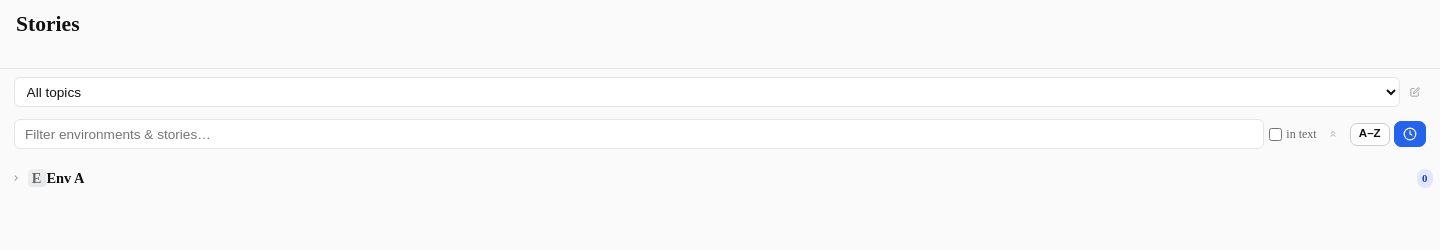
SideBarComponent › rendering › shows "no chats" for an expanded project without chats
Click the button with class "expand-btn" at (16, 178), box [5,167,27,189]
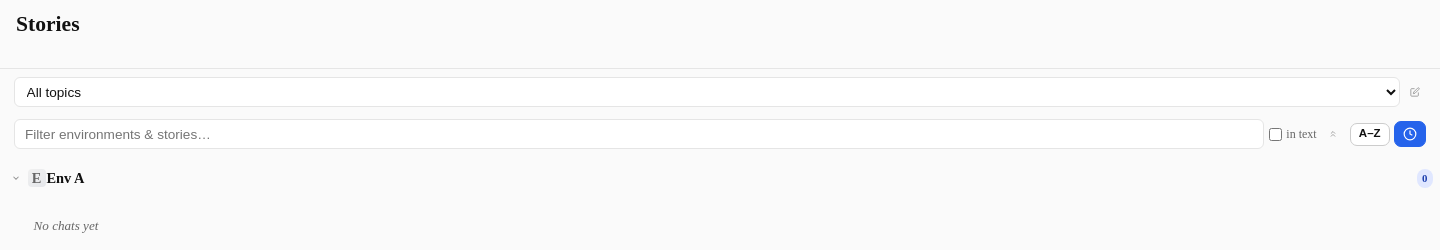
expect the text with class "empty" reads "No chats yet": met, box [34,218,98,233]
